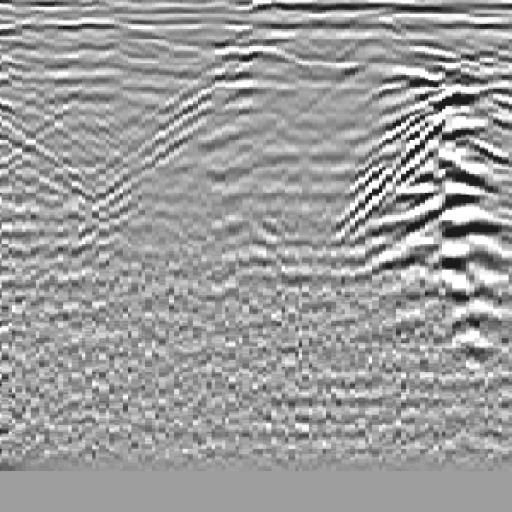metalic: (330, 39, 512, 363), (102, 20, 344, 257)
